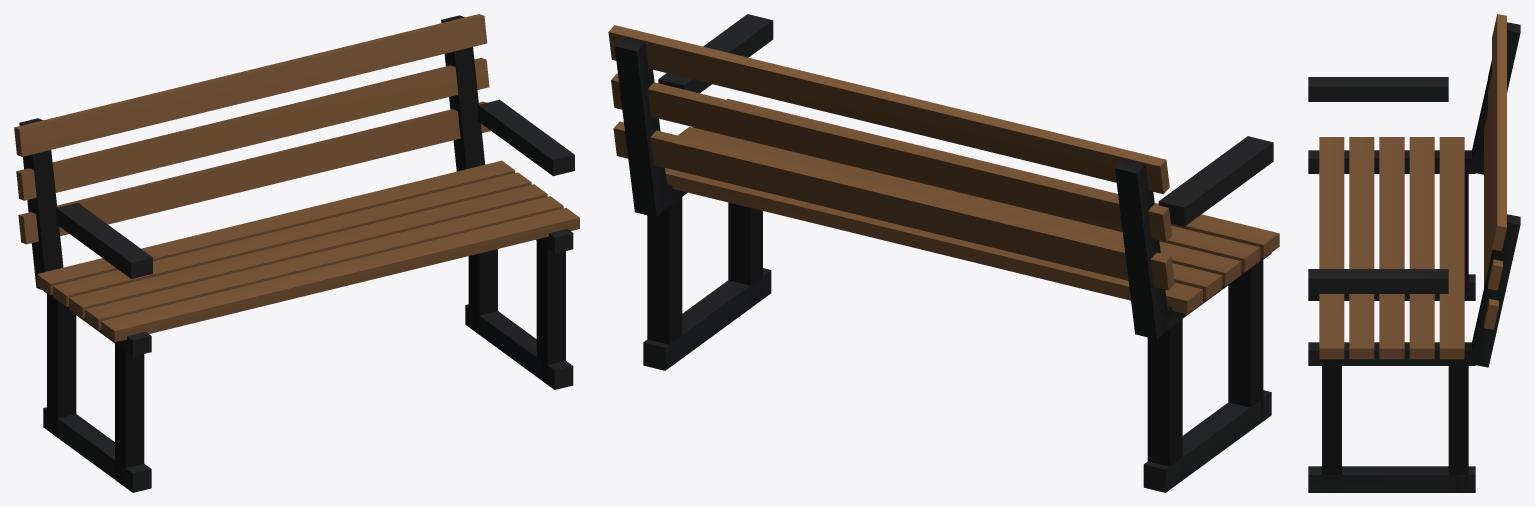
Rendered from bench_lo-Bqi7mKrK.glb.
The picture shows the model from 3 angles, left to right: view 1: azimuth 30°, elevation 25°; view 2: azimuth 150°, elevation 25°; view 3: azimuth 270°, elevation 25°; orthographic projection. The views are drawn at different scales.
Size of the model in its own units: 1.5 by 0.9014 by 0.6348.
